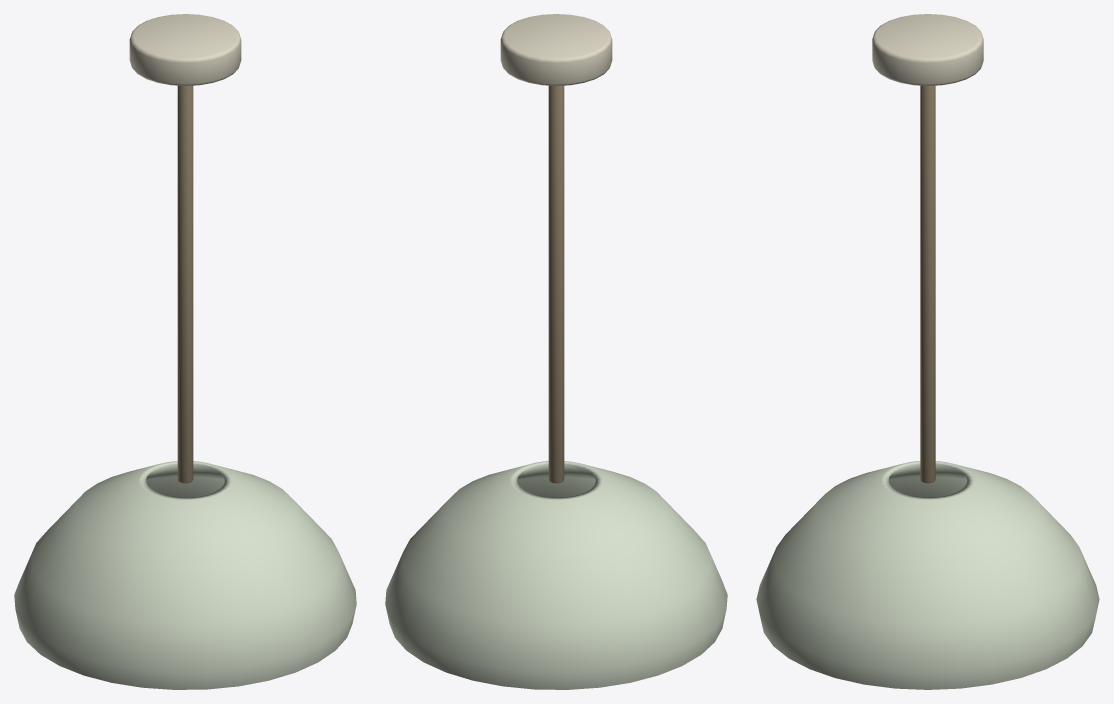
Rendered from dome-pendant.glb.
3 views of the same model, side by side, from view 1: azimuth 30°, elevation 25°; view 2: azimuth 150°, elevation 25°; view 3: azimuth 270°, elevation 25° (orthographic).
Visible parts, largest first — view 1: dome-pendant; view 2: dome-pendant; view 3: dome-pendant.
Boxes of the visible parts, <box> form: dome-pendant: <box>14,14,356,689</box>; dome-pendant: <box>385,14,727,689</box>; dome-pendant: <box>756,14,1099,689</box>.
Bounding box in the file's own units: 0.4 × 0.75 × 0.4.
